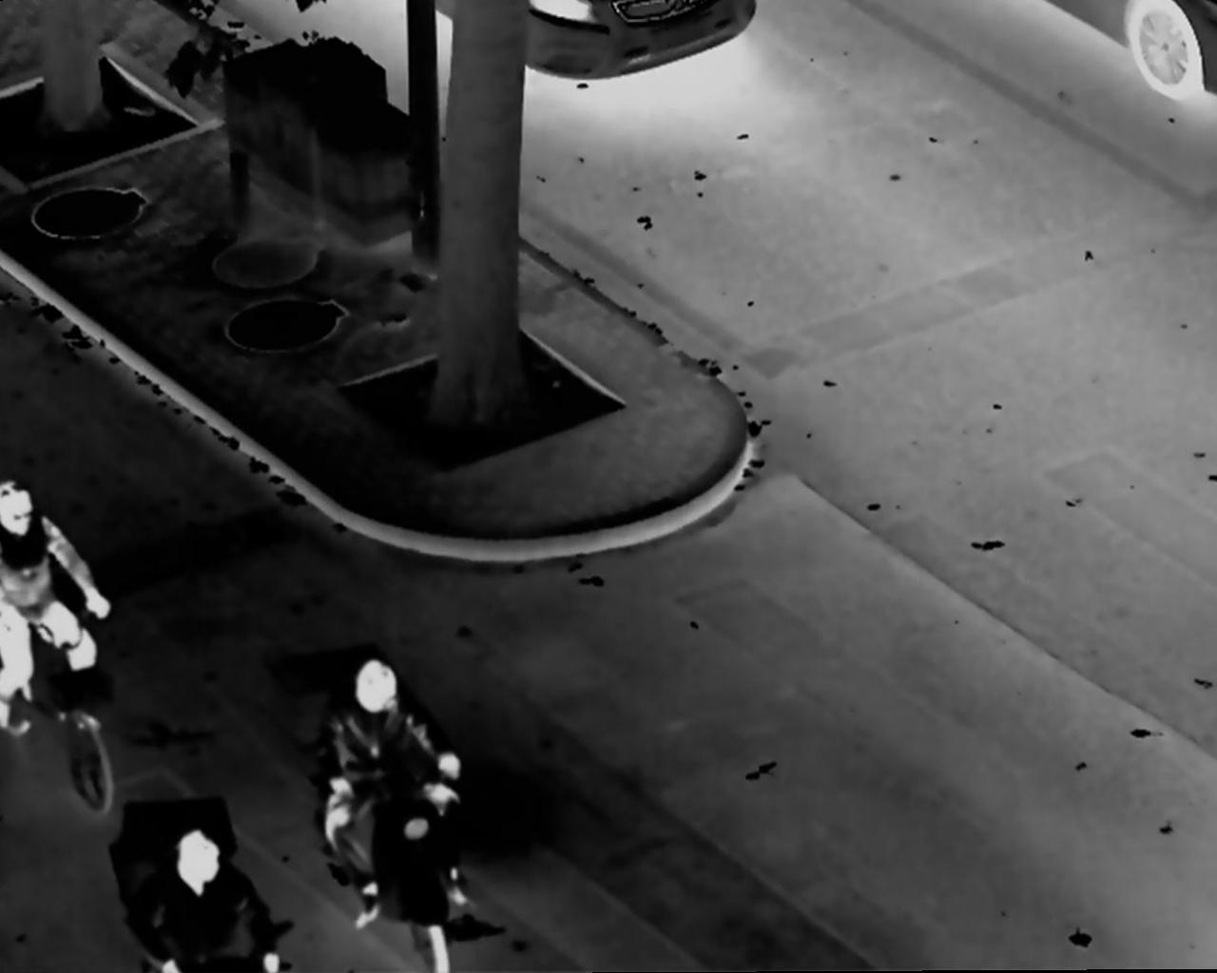person: (320, 650, 472, 973), (145, 820, 291, 973)
